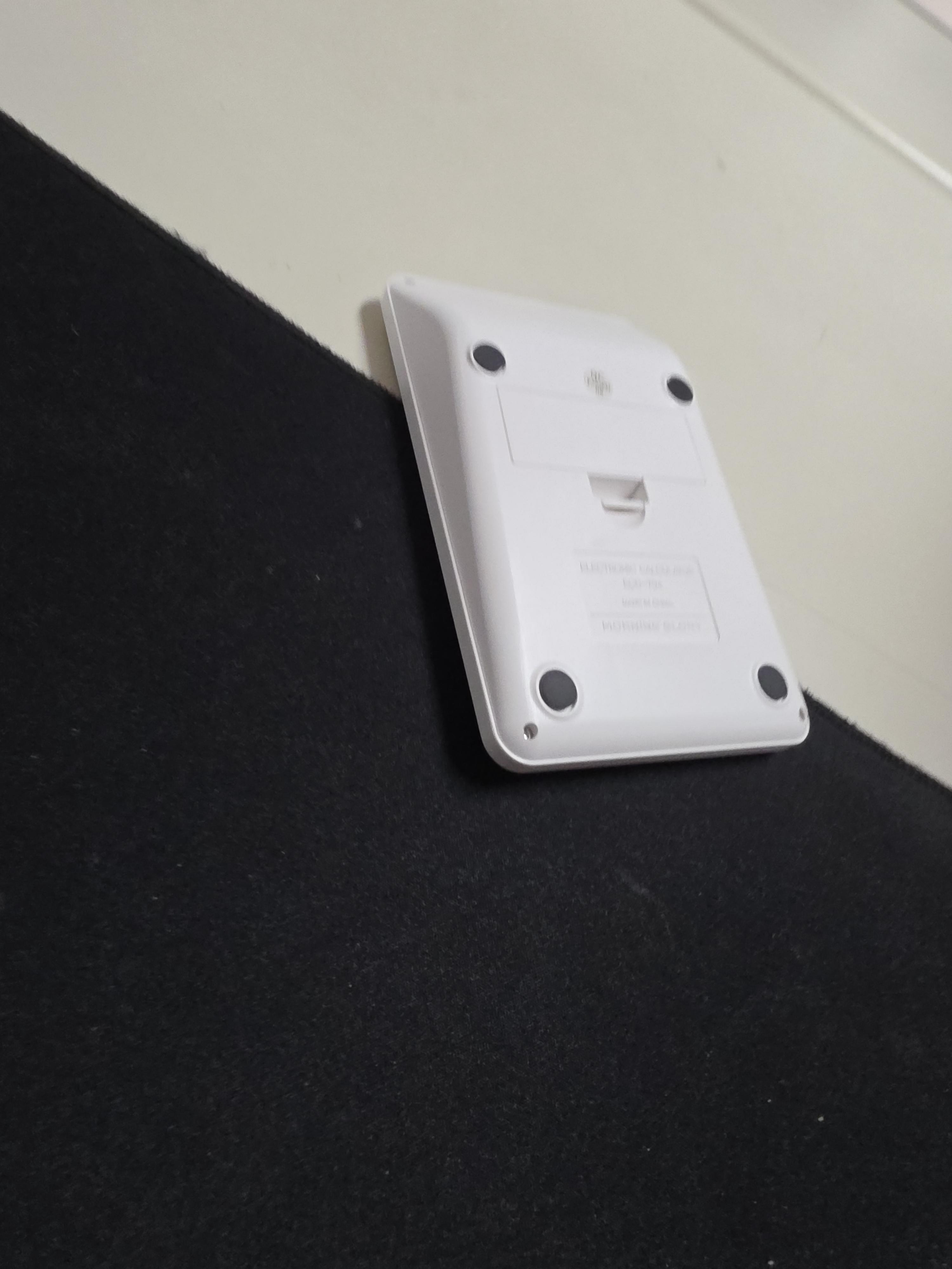calculator: (380, 273, 811, 773)
